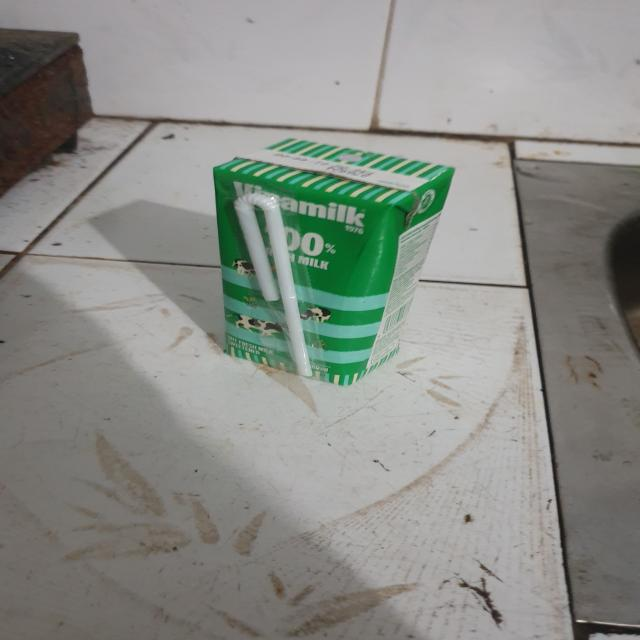Vina: (207, 142, 464, 382)
